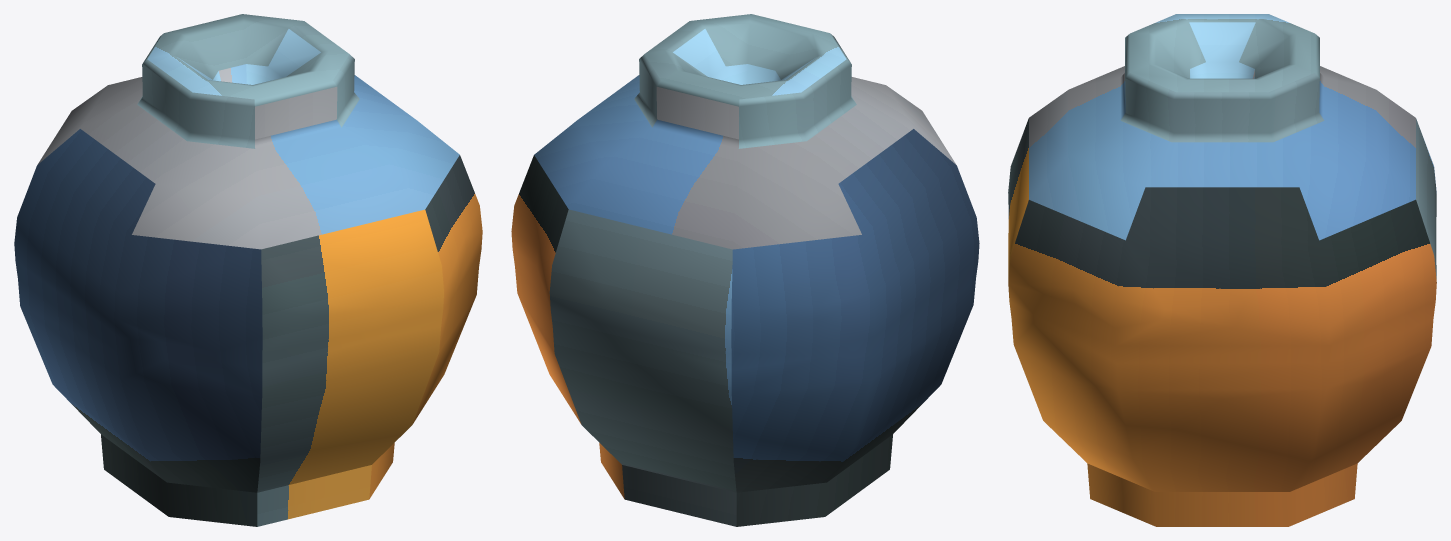
Rendered from CharSkyKid_Prop_JarRound.glb.
3 renders of one model, left to right at view 1: azimuth 30°, elevation 25°; view 2: azimuth 150°, elevation 25°; view 3: azimuth 270°, elevation 25°, orthographic. The views are drawn at different scales.
Parts seen in each view (by area): view 1: CharSkyKid_Prop_JarRound; view 2: CharSkyKid_Prop_JarRound; view 3: CharSkyKid_Prop_JarRound.
Boxes of the visible parts, x1,y1,x2,y2 form: CharSkyKid_Prop_JarRound: (14,14,482,526); CharSkyKid_Prop_JarRound: (511,14,979,526); CharSkyKid_Prop_JarRound: (1008,14,1436,526).
Bounding box in the file's own units: 0.4732 × 0.5142 × 0.4732.
Materials: 1 (1 with a texture image).
